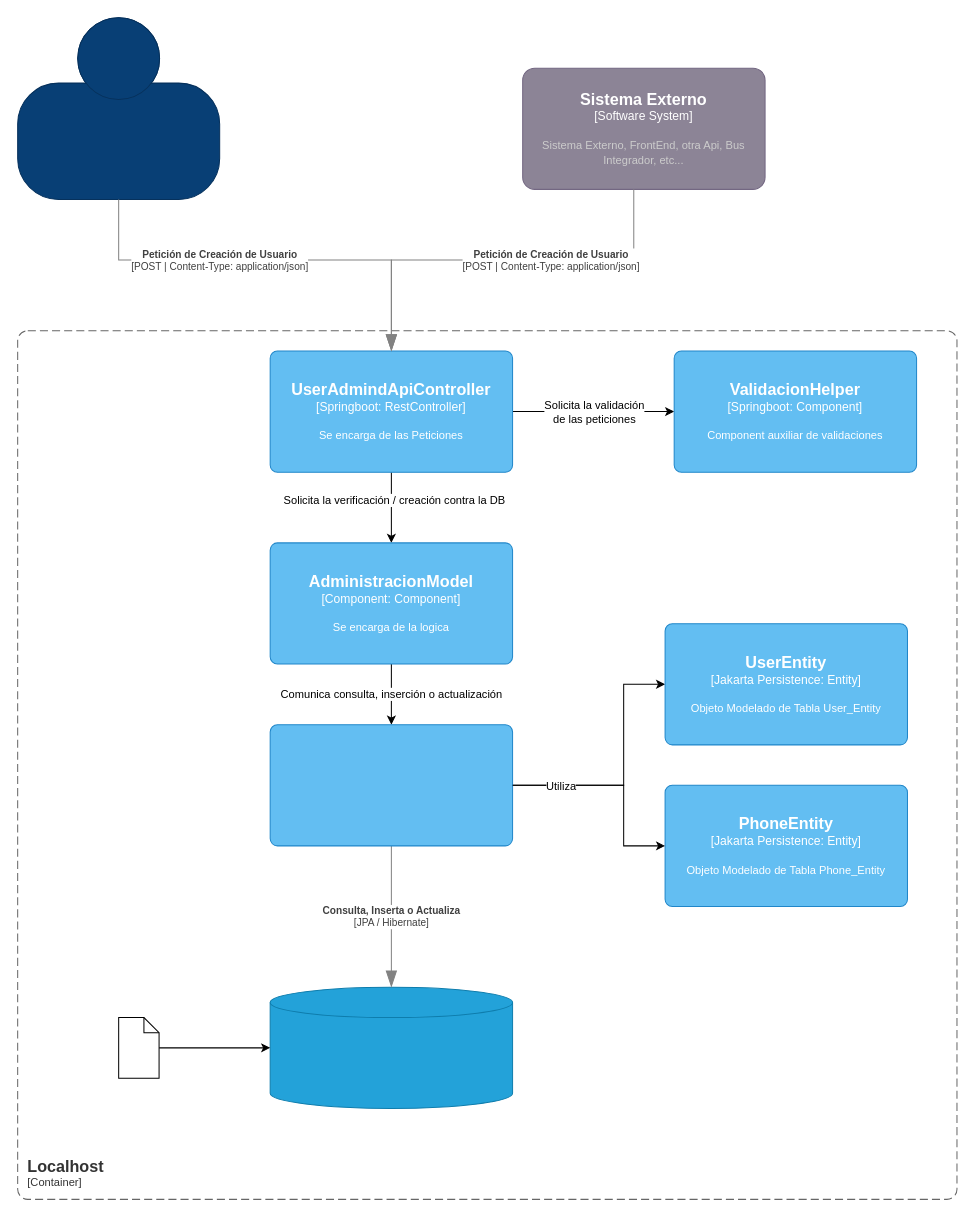
The diagram is 975 pixels wide and 1217 high, and some of its shapes have lost their labels. Each missing label, with the centre of its shape:
"dataDe Prueba.sql" goes at (x=138, y=1047).
"H2 [Db Volatil: H2 Database] Base de datos con clientes" goes at (x=391, y=1047).
"UserRepository [Springboot: Repository] Se encarga de la logica" goes at (x=391, y=785).
"Usuario Final [Person] Usuario Final Desarrollador QA" goes at (x=118, y=108).
